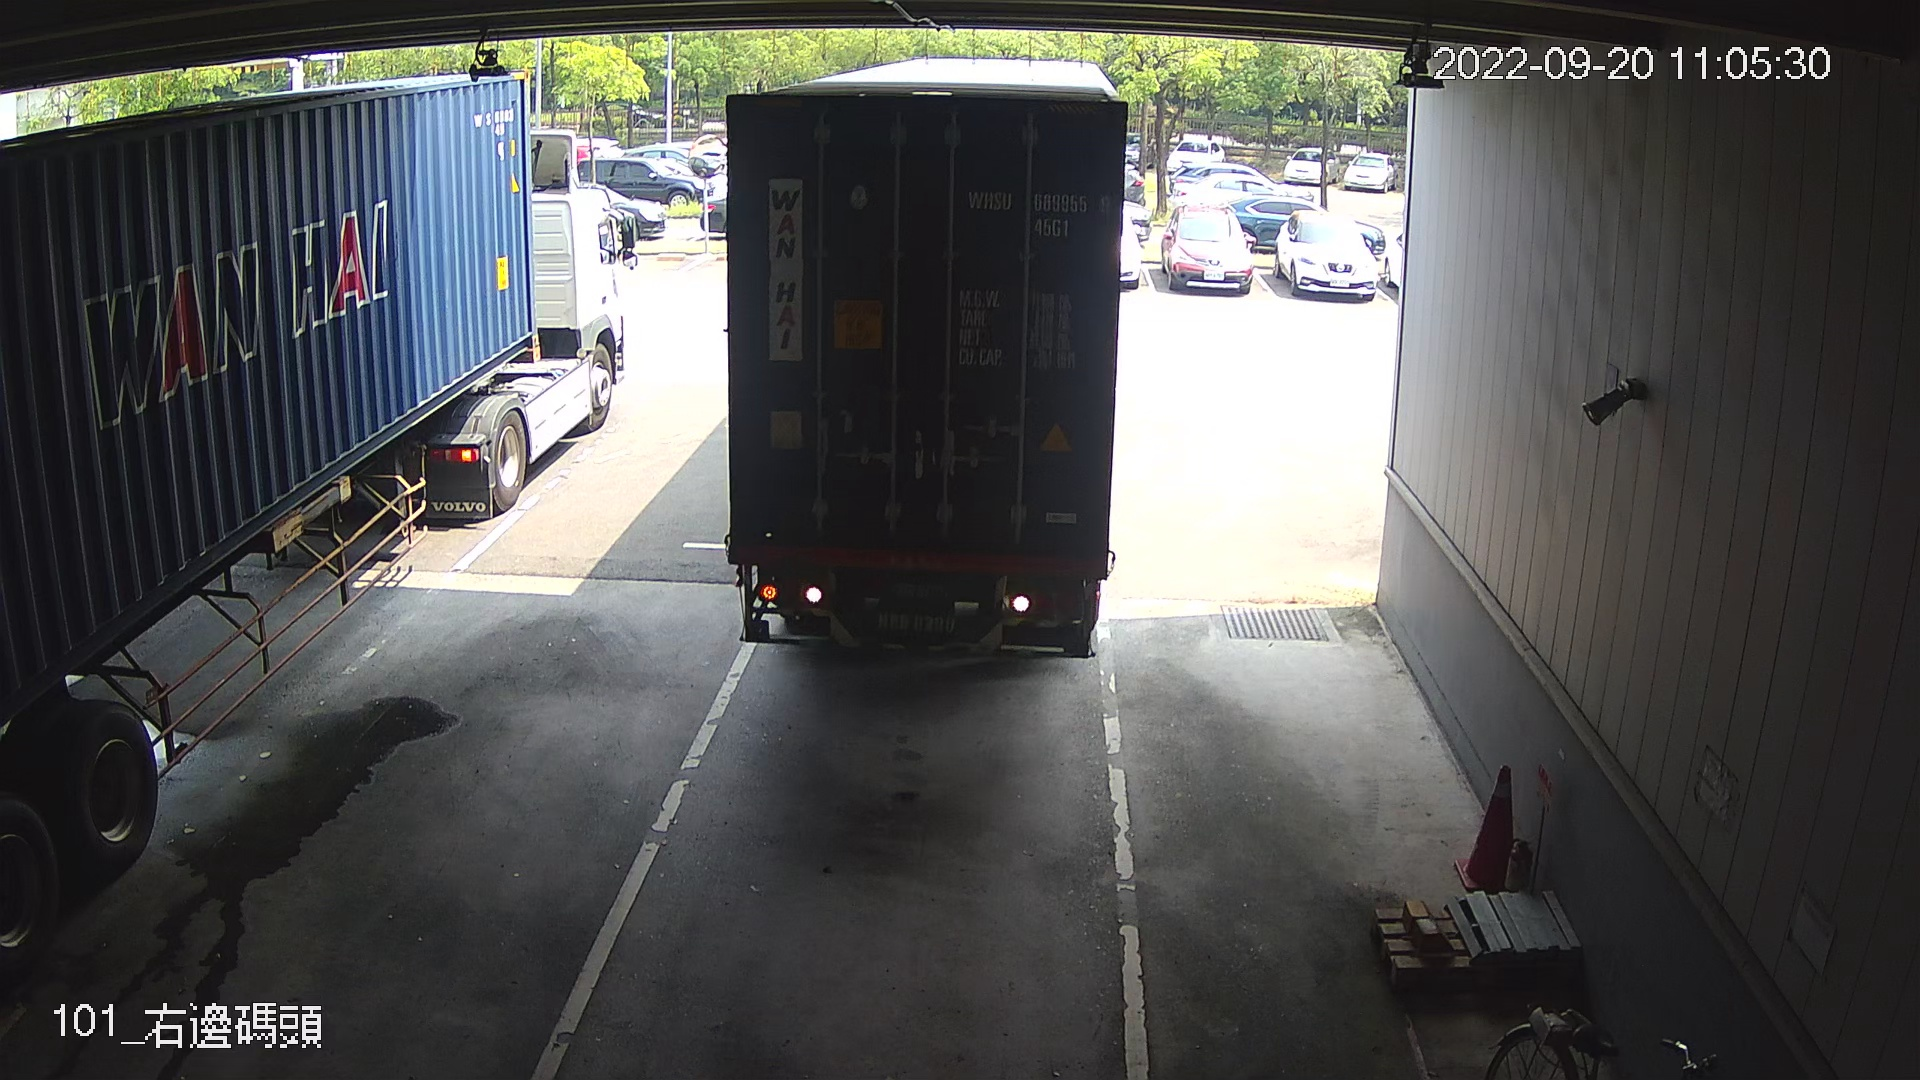container: (963, 181, 1116, 245)
